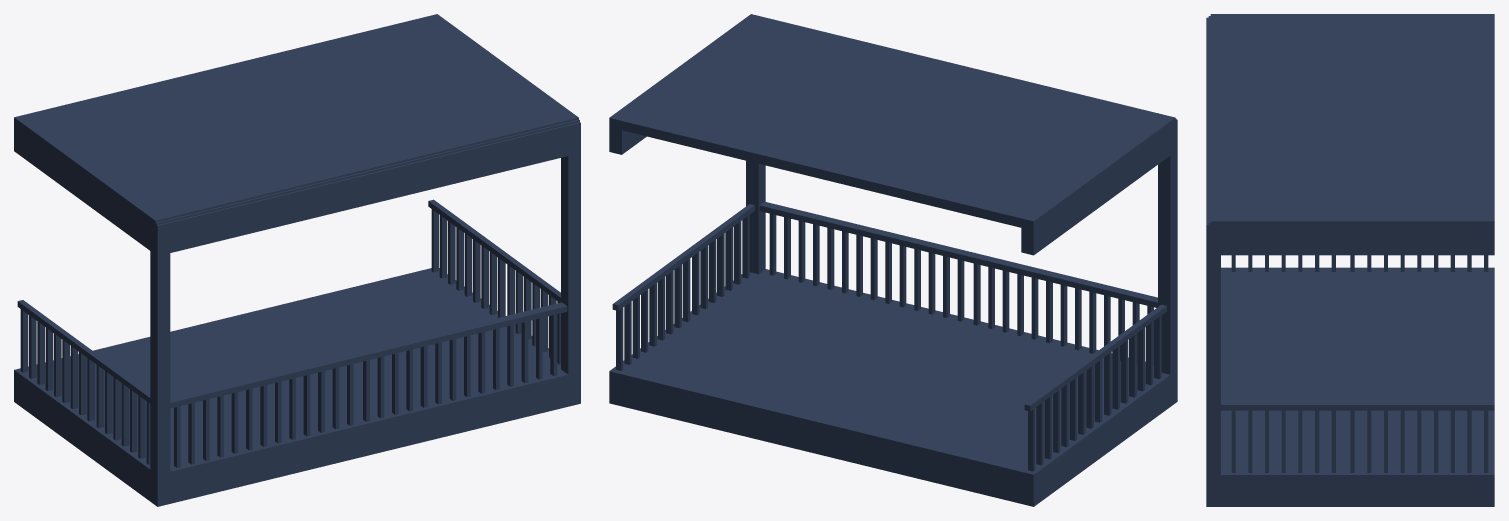
Rendered from balcony2_lightBlue.obj.
The picture shows the model from 3 angles, left to right: view 1: azimuth 30°, elevation 25°; view 2: azimuth 150°, elevation 25°; view 3: azimuth 270°, elevation 25°; orthographic projection.
Size of the model in its own units: 23.5 by 15.1 by 13.8.
Materials: 1 (1 with a texture image).
